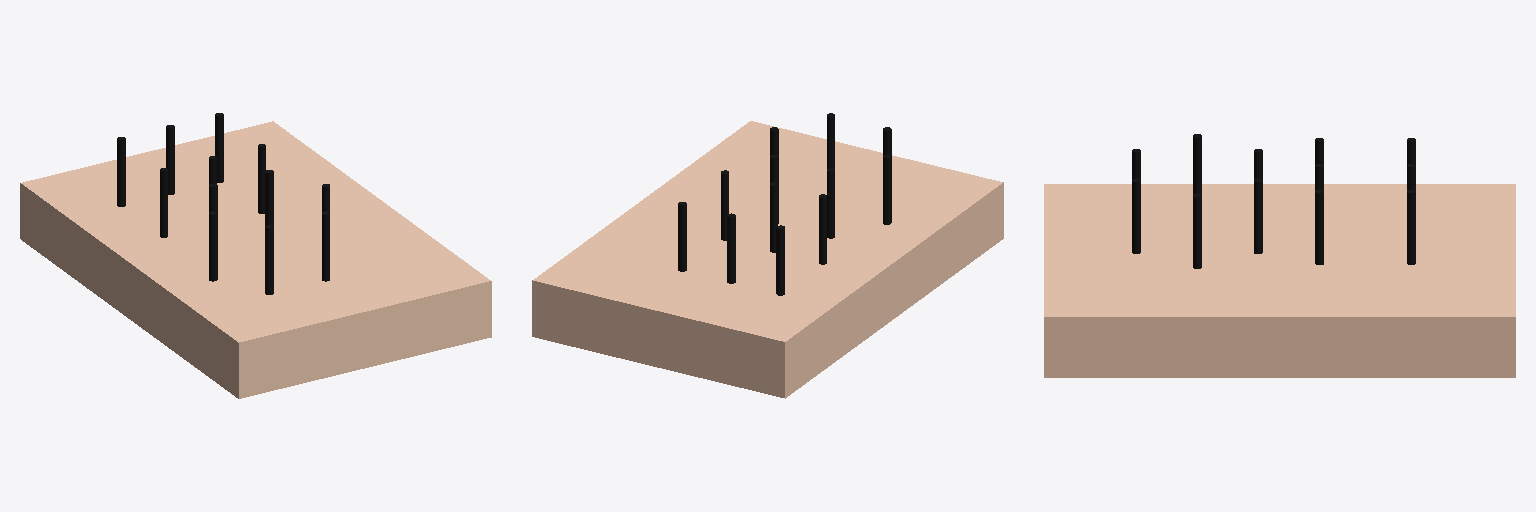
robot.urdf — peg_board_CUHK:
<?xml version="1.0" ?>
<robot name="peg_board_CUHK">
  <material name="rose_gold">
    <color rgba="0.98 0.84 0.74 1"/>
  </material>
  <material name="black">
    <color rgba="0.12 0.12 0.12 1"/>
  </material>

  <link name="peg_board_CUHK">
    <contact><lateral_friction value="1.0"/></contact>
    <visual>
      <geometry><box size="0.103 0.154 0.022"/></geometry>
      <material name="rose_gold"/>
    </visual>
    <collision><geometry><box size="0.103 0.154 0.022"/></geometry></collision>

    <visual><origin xyz="-0.0300  0.043000 0.022"/><geometry><cylinder radius="0.0015" length="0.030"/></geometry><material name="black"/></visual>
    <collision><origin xyz="-0.0300  0.043000 0.022"/><geometry><cylinder radius="0.0015" length="0.030"/></geometry></collision>
    <visual><origin xyz="-0.0100  0.043000 0.022"/><geometry><cylinder radius="0.0015" length="0.030"/></geometry><material name="black"/></visual>
    <collision><origin xyz="-0.0100  0.043000 0.022"/><geometry><cylinder radius="0.0015" length="0.030"/></geometry></collision>
    <visual><origin xyz=" 0.0100  0.043000 0.022"/><geometry><cylinder radius="0.0015" length="0.030"/></geometry><material name="black"/></visual>
    <collision><origin xyz=" 0.0100  0.043000 0.022"/><geometry><cylinder radius="0.0015" length="0.030"/></geometry></collision>

    <visual><origin xyz="-0.0300  0.013000 0.022"/><geometry><cylinder radius="0.0015" length="0.030"/></geometry><material name="black"/></visual>
    <collision><origin xyz="-0.0300  0.013000 0.022"/><geometry><cylinder radius="0.0015" length="0.030"/></geometry></collision>
    <visual><origin xyz="-0.0100  0.013000 0.022"/><geometry><cylinder radius="0.0015" length="0.030"/></geometry><material name="black"/></visual>
    <collision><origin xyz="-0.0100  0.013000 0.022"/><geometry><cylinder radius="0.0015" length="0.030"/></geometry></collision>
    <visual><origin xyz=" 0.0100  0.013000 0.022"/><geometry><cylinder radius="0.0015" length="0.030"/></geometry><material name="black"/></visual>
    <collision><origin xyz=" 0.0100  0.013000 0.022"/><geometry><cylinder radius="0.0015" length="0.030"/></geometry></collision>

    <visual><origin xyz="-0.0330 -0.027000 0.022"/><geometry><cylinder radius="0.0015" length="0.030"/></geometry><material name="black"/></visual>
    <collision><origin xyz="-0.0330 -0.027000 0.022"/><geometry><cylinder radius="0.0015" length="0.030"/></geometry></collision>
    <visual><origin xyz=" 0.0130 -0.027000 0.022"/><geometry><cylinder radius="0.0015" length="0.030"/></geometry><material name="black"/></visual>
    <collision><origin xyz=" 0.0130 -0.027000 0.022"/><geometry><cylinder radius="0.0015" length="0.030"/></geometry></collision>

    <visual><origin xyz="-0.0215 -0.007081 0.022"/><geometry><cylinder radius="0.0015" length="0.030"/></geometry><material name="black"/></visual>
    <collision><origin xyz="-0.0215 -0.007081 0.022"/><geometry><cylinder radius="0.0015" length="0.030"/></geometry></collision>
    <visual><origin xyz=" 0.0015 -0.007081 0.022"/><geometry><cylinder radius="0.0015" length="0.030"/></geometry><material name="black"/></visual>
    <collision><origin xyz=" 0.0015 -0.007081 0.022"/><geometry><cylinder radius="0.0015" length="0.030"/></geometry></collision>
    <visual><origin xyz="-0.0215 -0.046919 0.022"/><geometry><cylinder radius="0.0015" length="0.030"/></geometry><material name="black"/></visual>
    <collision><origin xyz="-0.0215 -0.046919 0.022"/><geometry><cylinder radius="0.0015" length="0.030"/></geometry></collision>
    <visual><origin xyz=" 0.0015 -0.046919 0.022"/><geometry><cylinder radius="0.0015" length="0.030"/></geometry><material name="black"/></visual>
    <collision><origin xyz=" 0.0015 -0.046919 0.022"/><geometry><cylinder radius="0.0015" length="0.030"/></geometry></collision>
  </link>
</robot>

--- Facts derived from the render (not from the file) ---
Views: 3 orthographic renders of the robot side by side, from view 1: azimuth 30°, elevation 25°; view 2: azimuth 150°, elevation 25°; view 3: azimuth 270°, elevation 25°.
Robot: peg_board_CUHK — 1 links, 0 joints (none); root link peg_board_CUHK; default pose: all joints at 0.
Visible links, largest first — view 1: peg_board_CUHK; view 2: peg_board_CUHK; view 3: peg_board_CUHK.
Link boxes in pixels (x1,y1,x2,y2): peg_board_CUHK: [20, 113, 491, 398]; peg_board_CUHK: [532, 113, 1003, 398]; peg_board_CUHK: [1044, 134, 1515, 377].
Bounding box of the posed robot: 0.103 × 0.154 × 0.048 m (x, y, z).
Geometry: primitives only (box / cylinder / sphere), no mesh files.
